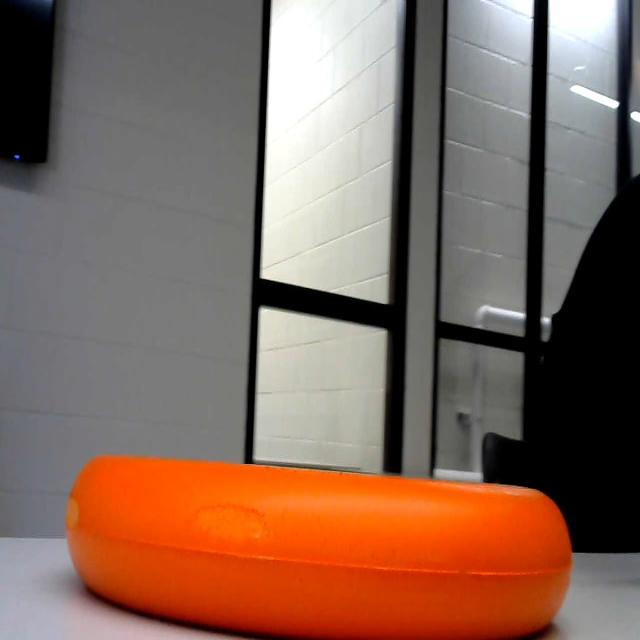note: (65, 427, 578, 640)
